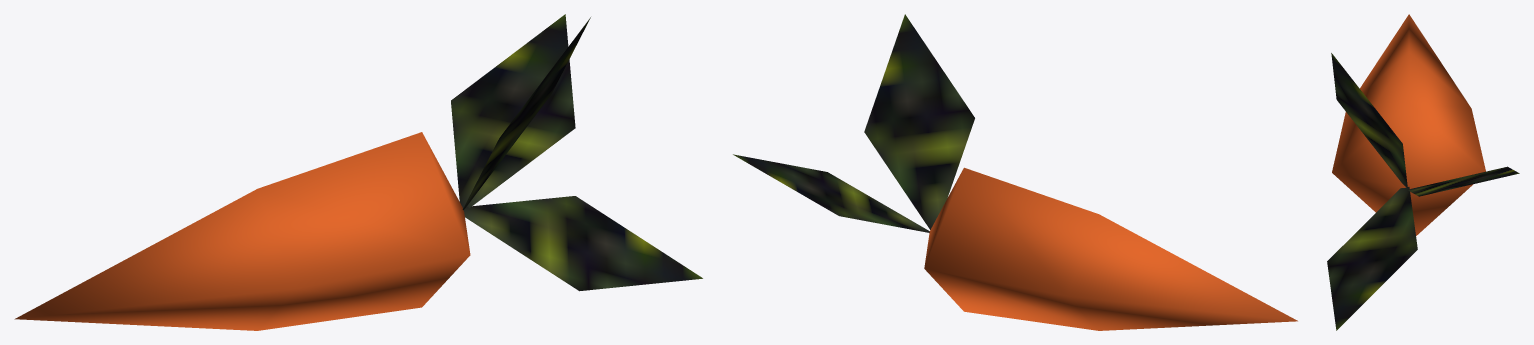
Rendered from Carrot.fbx.
3 renders of one model, left to right at view 1: azimuth 30°, elevation 25°; view 2: azimuth 150°, elevation 25°; view 3: azimuth 270°, elevation 25°, orthographic. The views are drawn at different scales.
Visible parts, largest first — view 1: Plane.006; view 2: Plane.006; view 3: Plane.006.
Boxes of the visible parts, left/top/right/bottom form: Plane.006: left=14, top=14, right=702, bottom=330; Plane.006: left=733, top=14, right=1297, bottom=330; Plane.006: left=1327, top=14, right=1519, bottom=330.
Size of the model in its own units: 64.44 by 28.45 by 20.95.
Materials: 1 (1 with a texture image).
